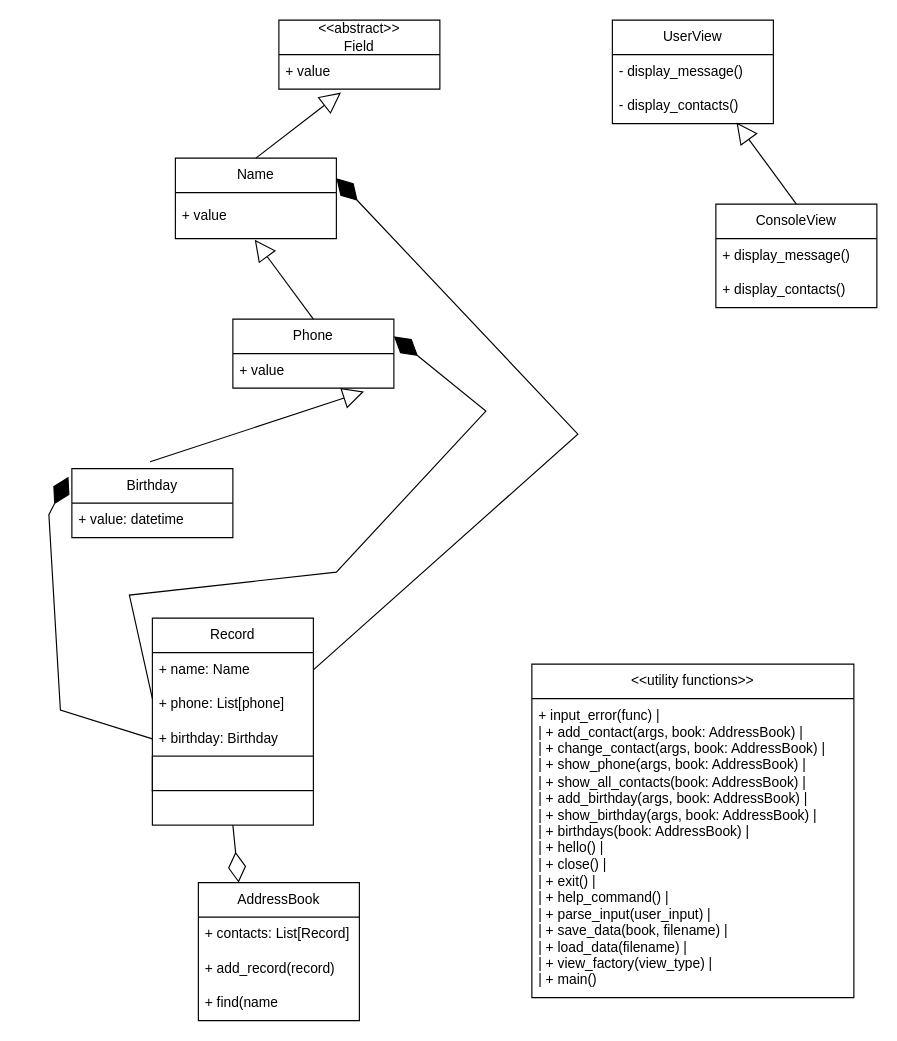
The diagram is 897 pixels wide and 1041 high, and some of its shapes have lost their labels. The shapes that lost their labels are listed below. From the top down, each one's centre as x and y in pixels, then its label:
At point 232,773: "+ add_phone(value)".
At point 232,807: "+ add_birthday(value)".
